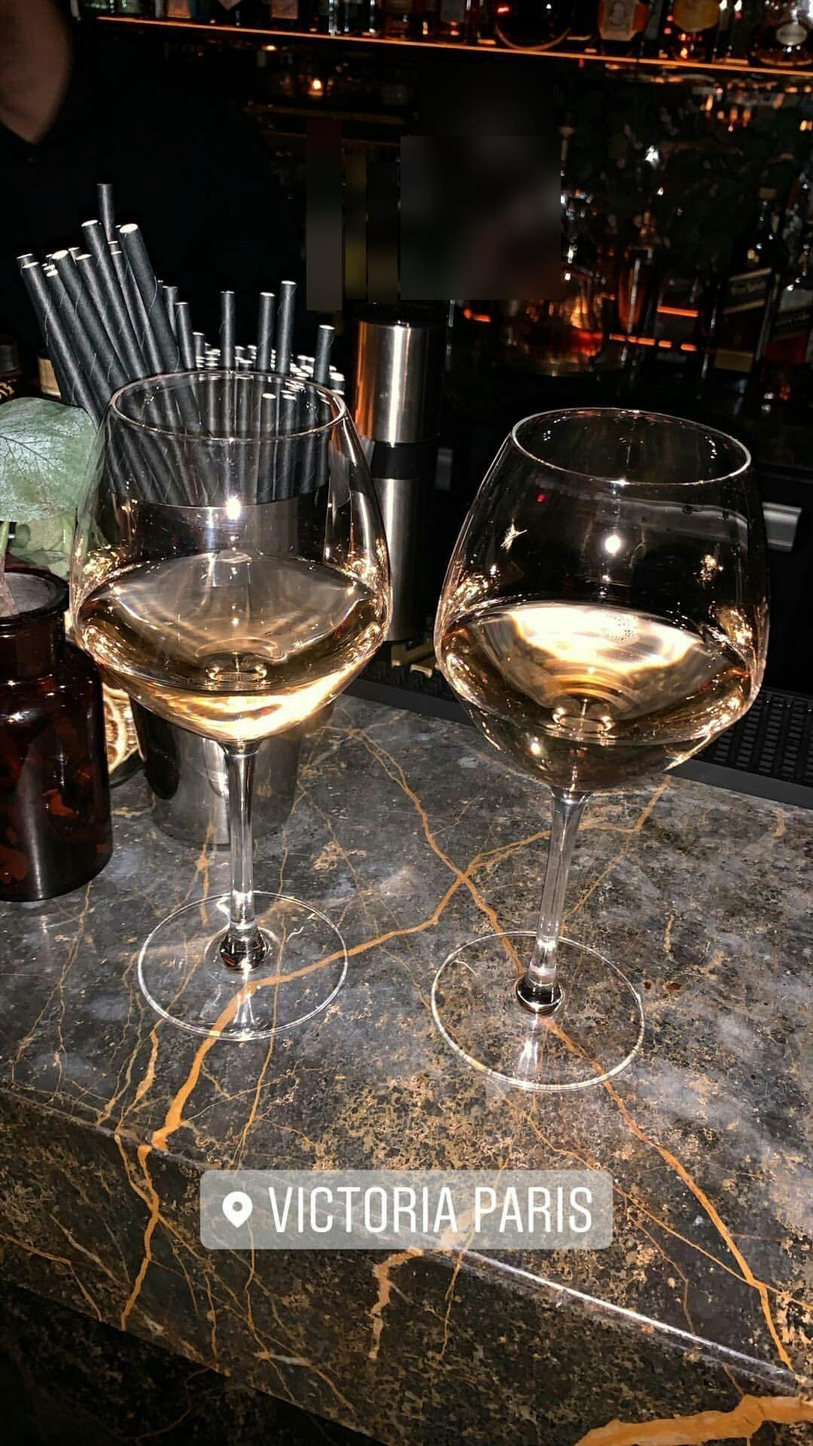glass-wine: (429, 406, 772, 1091), (65, 365, 394, 1039)
